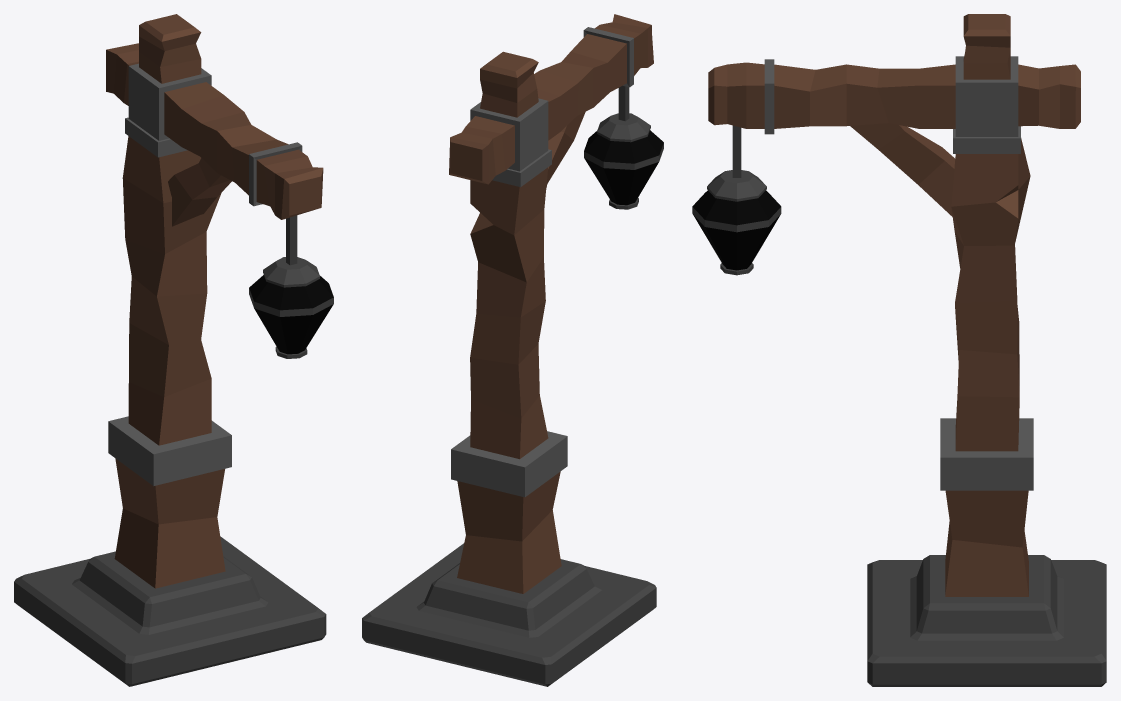
The model's file is StreetLantern.fbx.
The picture shows the model from 3 angles, left to right: view 1: azimuth 30°, elevation 25°; view 2: azimuth 150°, elevation 25°; view 3: azimuth 270°, elevation 25°; orthographic projection. The views are drawn at different scales.
Visible parts, largest first — view 1: Lantern; view 2: Lantern; view 3: Lantern.
Part boxes in pixels (left/top/right/bottom): Lantern: left=14, top=14, right=333, bottom=686; Lantern: left=362, top=14, right=663, bottom=686; Lantern: left=692, top=14, right=1106, bottom=686.
Size of what is drawn, in the model's own units: 400 by 1138 by 693.
